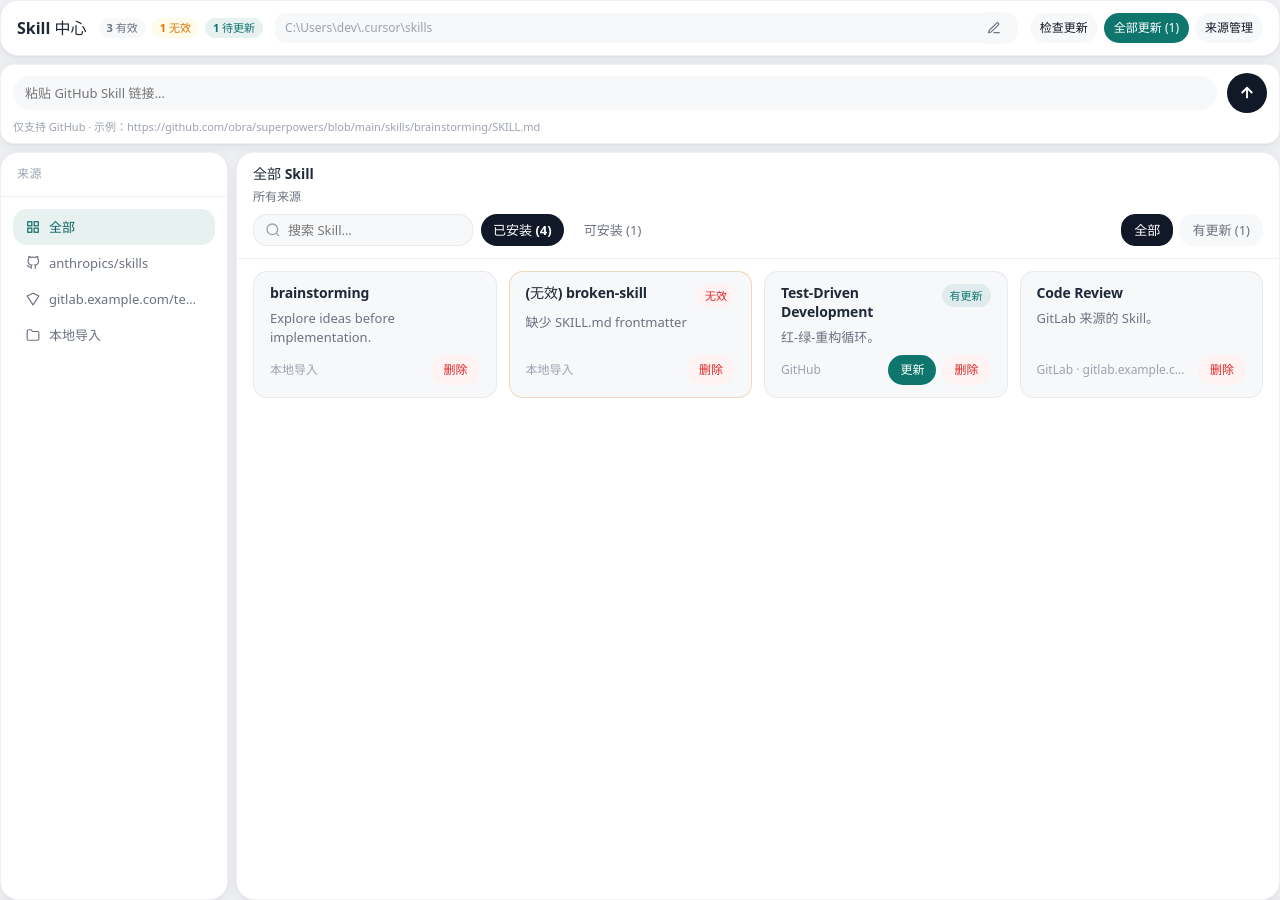
Test case: SkillHubPage › filters installed skills with the updates chip
Expected: the text "Explore ideas before implementation." is shown, 270,309 -> 395,346
Step 1. Click the button "有更新 (1)" → (1221, 230), box 1179,214 -> 1263,246
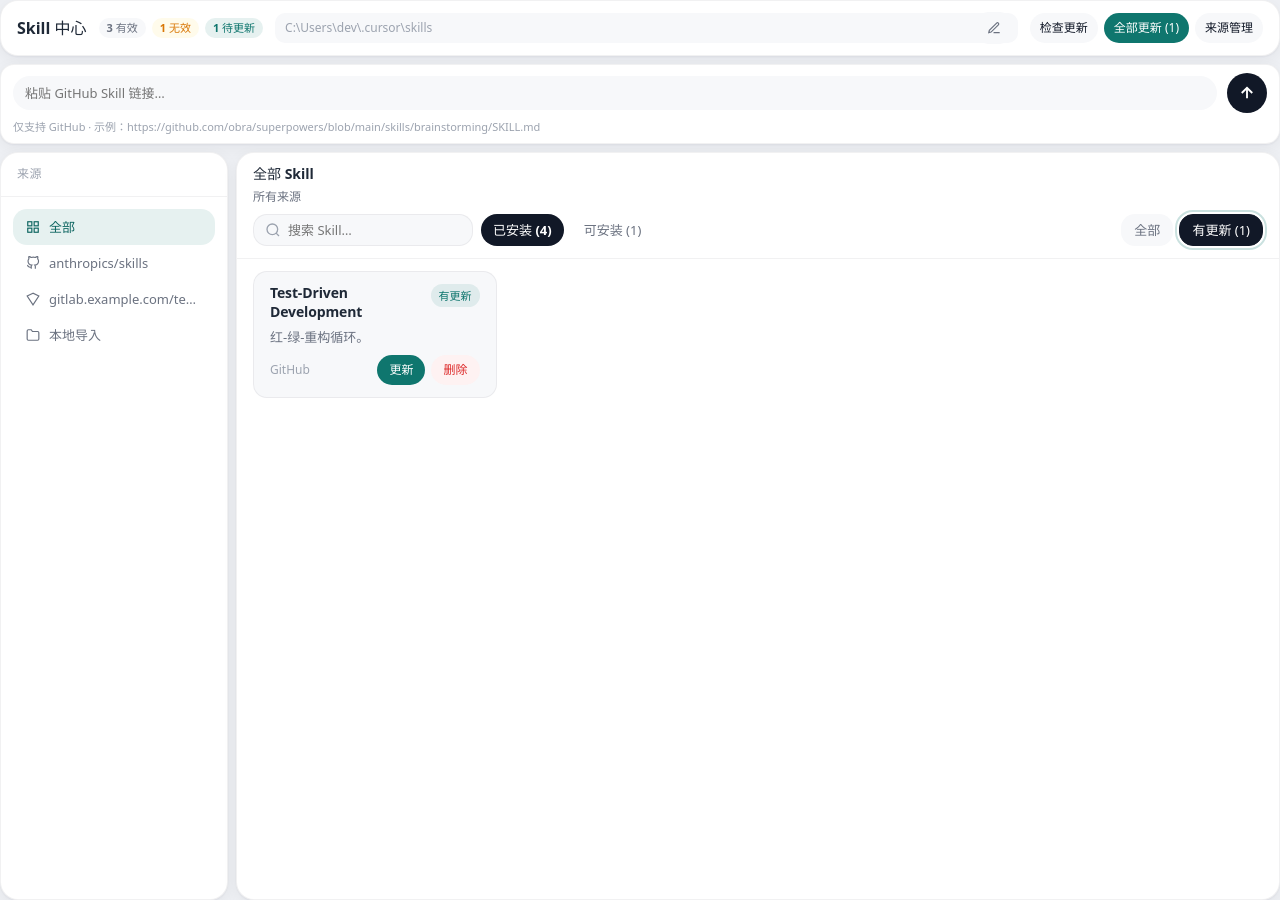
Expected: the text "红-绿-重构循环。" is shown, 270,328 -> 369,346
Now the text "Explore ideas before implementation." is gone
